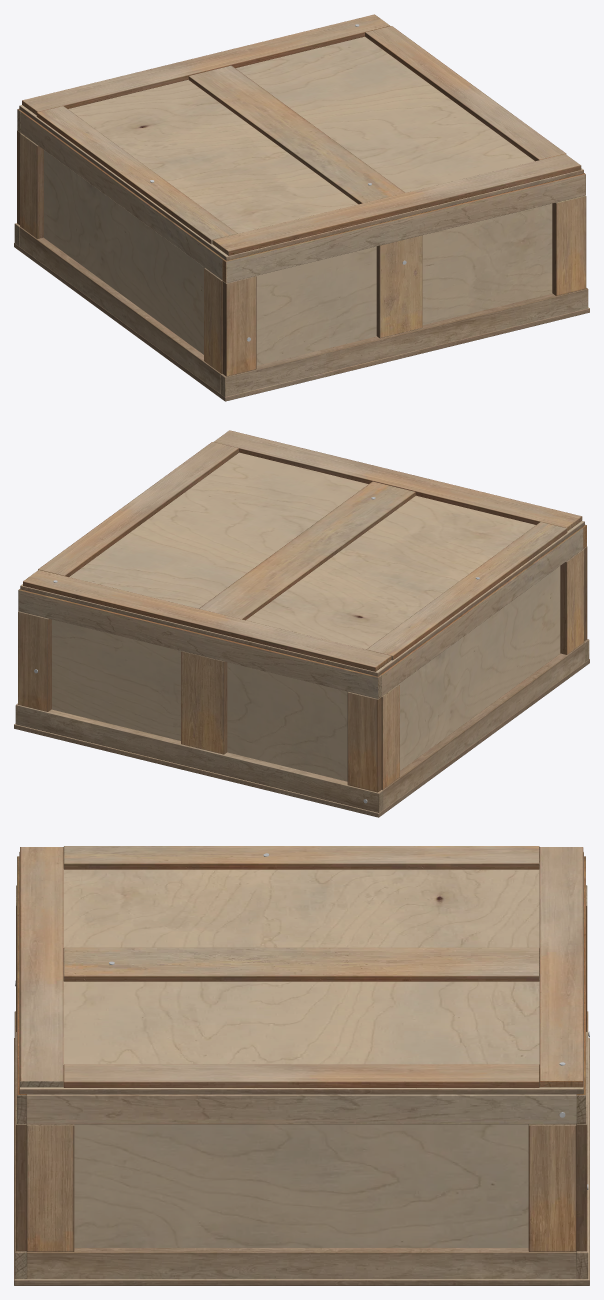
File: crate_plywood_a04.glb
3 views of the same model, one above another, from view 1: azimuth 30°, elevation 25°; view 2: azimuth 150°, elevation 25°; view 3: azimuth 270°, elevation 25° (orthographic). The views are drawn at different scales.
Parts seen in each view (by area): view 1: sm_crate_a04_mesh_00; view 2: sm_crate_a04_mesh_00; view 3: sm_crate_a04_mesh_00.
Part boxes in pixels (x1=…): sm_crate_a04_mesh_00: x1=14, y1=14, x2=589, y2=401; sm_crate_a04_mesh_00: x1=14, y1=430, x2=589, y2=817; sm_crate_a04_mesh_00: x1=14, y1=846, x2=589, y2=1285.
Bounding box in the file's own units: 1.22 × 0.4723 × 1.22.
Materials: 3 (3 with a texture image).
